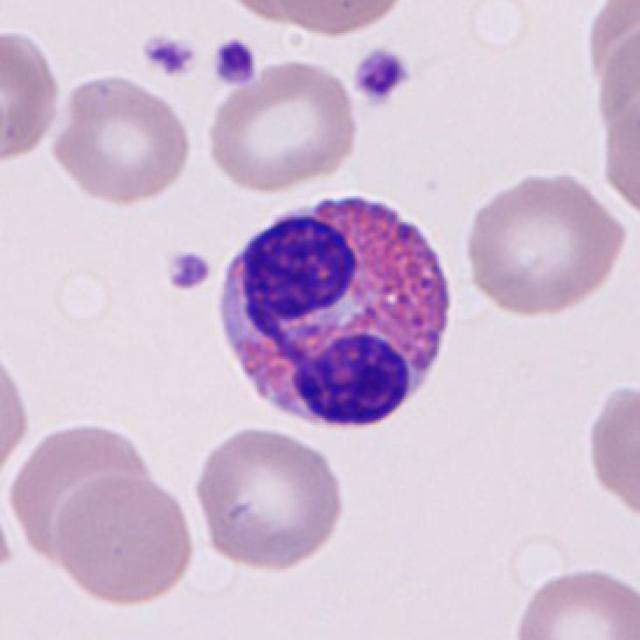Eosinophil: (206, 179, 464, 444)
Platelets: (350, 45, 412, 106), (138, 31, 201, 80), (161, 246, 218, 295), (210, 36, 259, 87)
RBC: (458, 165, 630, 319), (189, 423, 350, 574), (201, 54, 362, 194), (47, 470, 198, 609), (8, 416, 156, 557), (46, 70, 194, 206), (507, 560, 638, 640), (0, 22, 65, 166), (593, 33, 640, 225), (584, 375, 638, 527), (584, 3, 640, 128), (271, 0, 414, 38), (0, 340, 33, 486), (211, 0, 339, 29), (0, 485, 17, 588)
